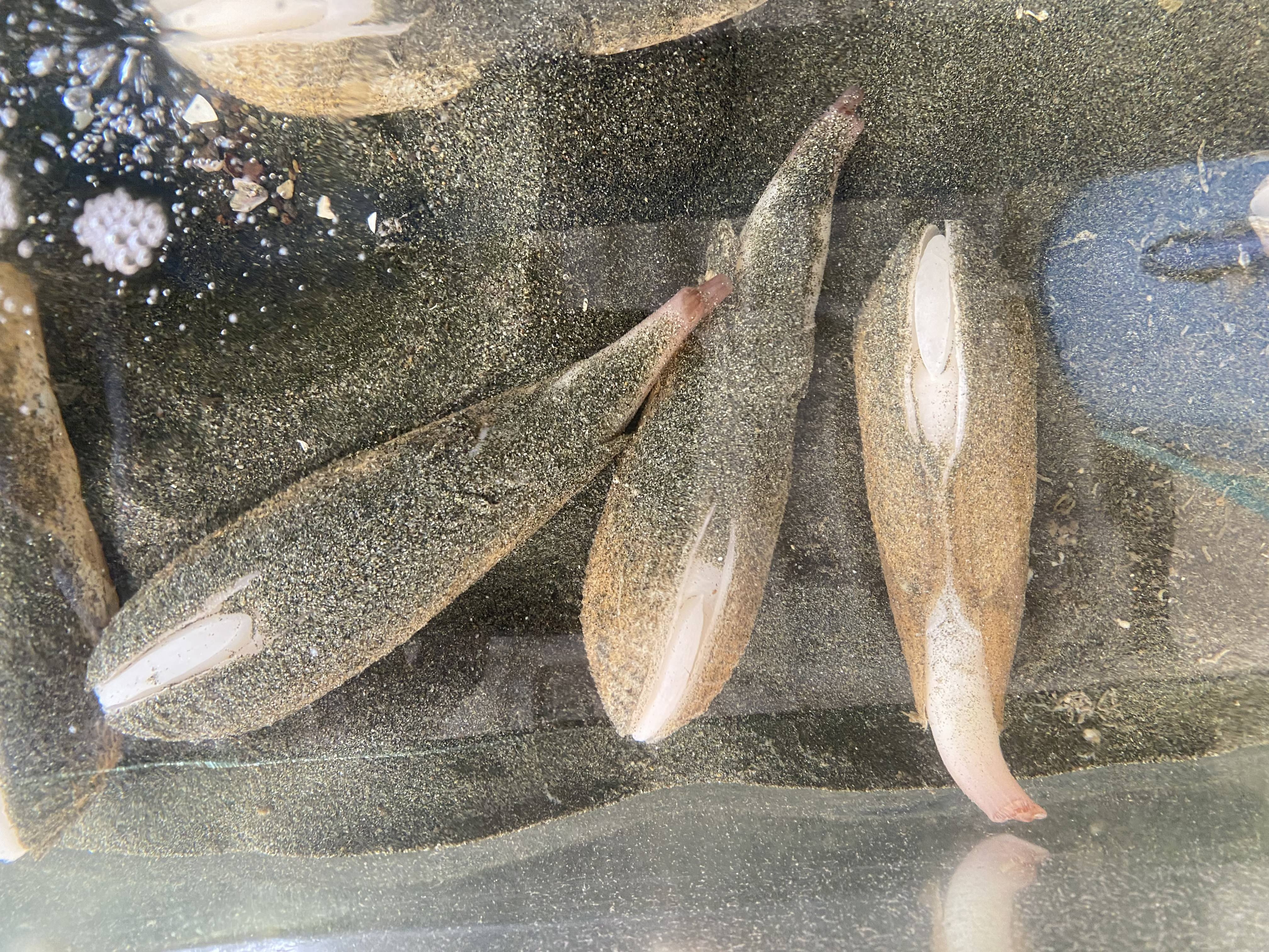Healthy: (87, 279, 727, 739), (581, 90, 863, 740), (855, 220, 1045, 821)
